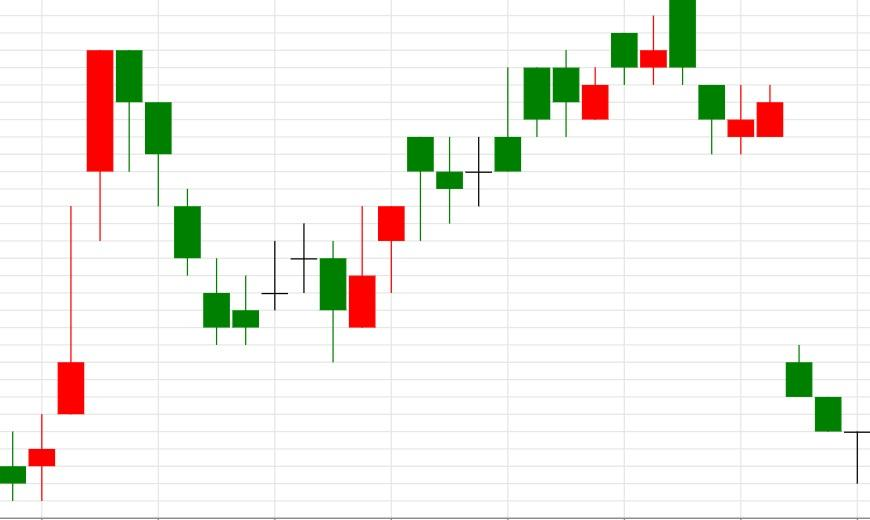bearish_engulfing_fall: (435, 0, 696, 223)
three_black_crows_fall: (0, 49, 202, 502)
